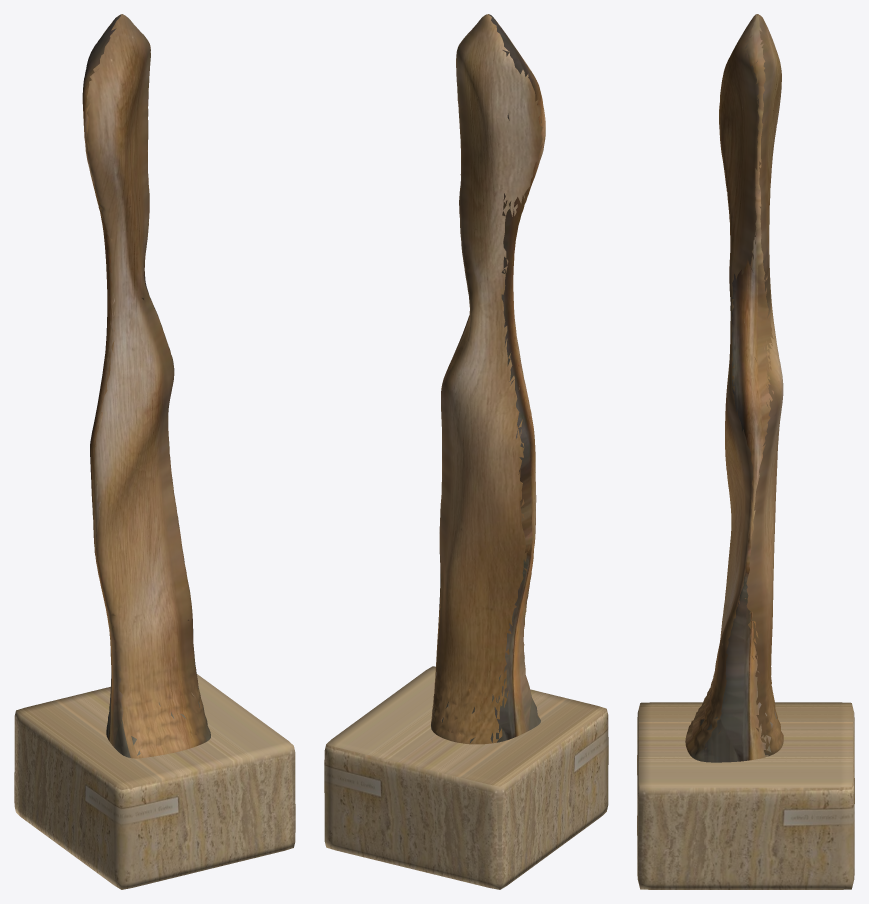
The model's file is hy3d-esc-014.glb.
3 views of the same model, side by side, from view 1: azimuth 30°, elevation 25°; view 2: azimuth 150°, elevation 25°; view 3: azimuth 270°, elevation 25° (orthographic).
Parts seen in each view (by area): view 1: world; view 2: world; view 3: world.
Boxes of the visible parts, bbox=[...] form: world: bbox=[14, 14, 295, 889]; world: bbox=[324, 14, 608, 889]; world: bbox=[637, 14, 854, 889].
Size of the model in its own units: 0.2943 by 1.3 by 0.313.
Materials: 1 (1 with a texture image).
